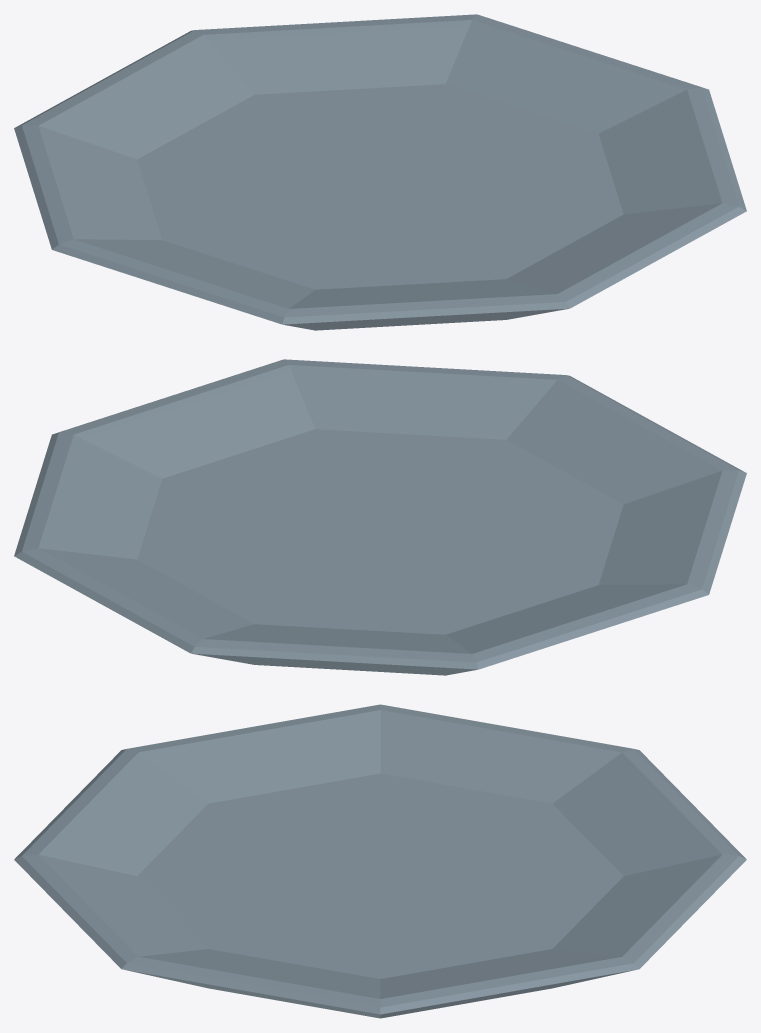
The model's file is Plate.fbx.
The picture shows the model from 3 angles, top to bottom: view 1: azimuth 30°, elevation 25°; view 2: azimuth 150°, elevation 25°; view 3: azimuth 270°, elevation 25°; orthographic projection. The views are drawn at different scales.
Visible parts, largest first — view 1: Cylinder; view 2: Cylinder; view 3: Cylinder.
Boxes of the visible parts, x1=… form: Cylinder: x1=14, y1=14, x2=746, y2=330; Cylinder: x1=14, y1=359, x2=746, y2=675; Cylinder: x1=14, y1=704, x2=746, y2=1018.
Bounding box in the file's own units: 99.71 × 10.34 × 99.71.
